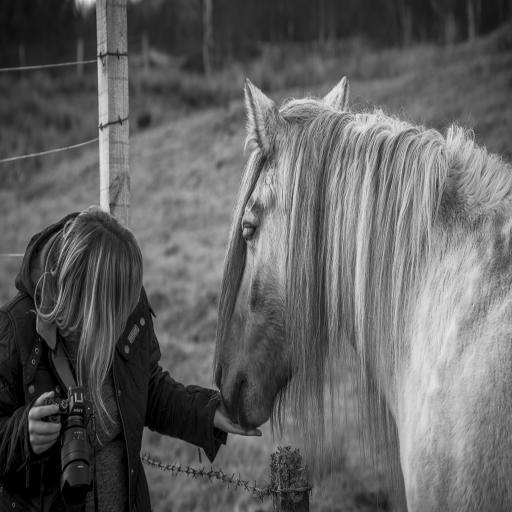horse: (202, 74, 512, 512)
